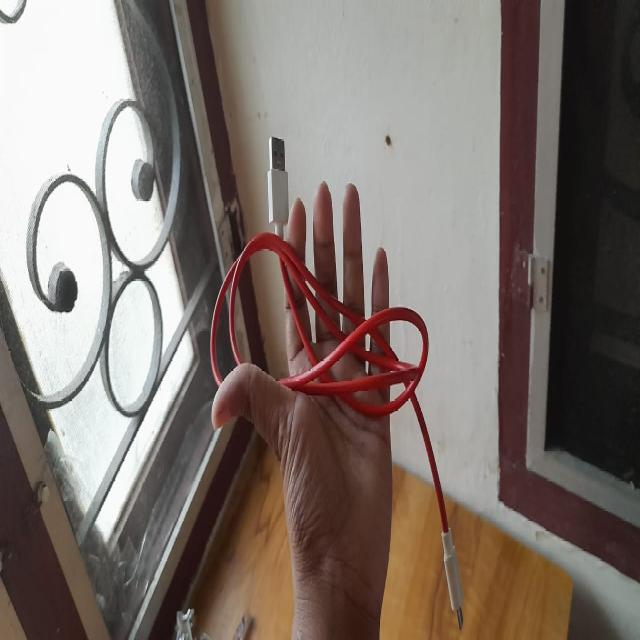Charger - Recyclable: (206, 122, 468, 640)
